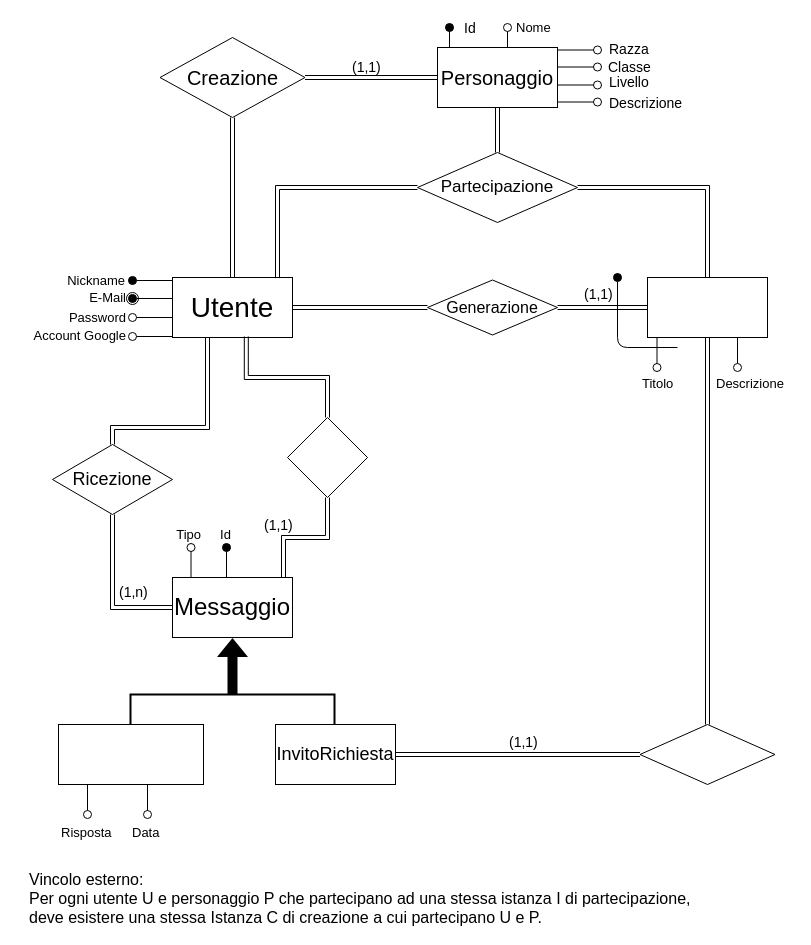
This 811x945 diagram has some shape labels left out. Here are the shapes that lost their labels. From the top down, the box of each, then its label:
(646, 276, 768, 338): Campagna
(286, 416, 368, 498): Invio
(58, 724, 204, 784): RichiestaSessione
(639, 724, 775, 784): Riferimento
